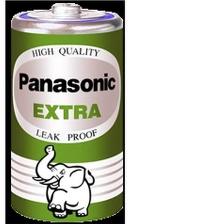battery: (5, 0, 127, 223)
